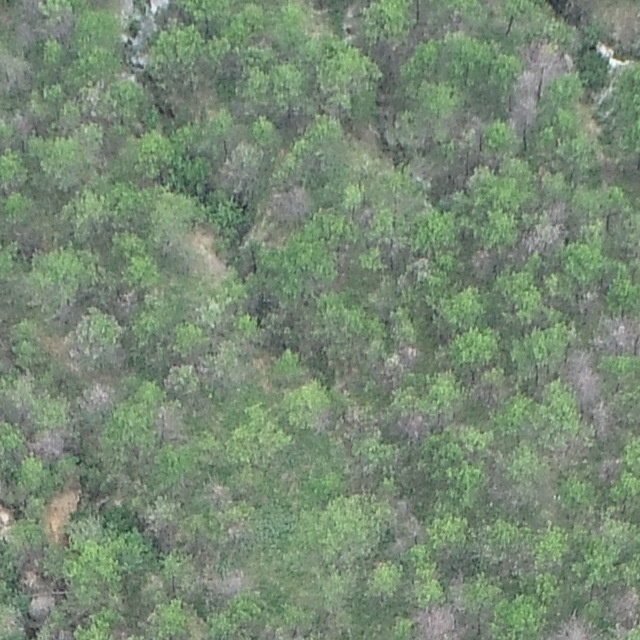unhealthy: (517, 203, 571, 259), (176, 222, 222, 277), (212, 146, 264, 194), (560, 346, 604, 402), (516, 39, 571, 83), (506, 78, 540, 141), (376, 339, 422, 383), (267, 183, 313, 224), (413, 601, 462, 639), (596, 312, 639, 355), (137, 507, 178, 547), (546, 434, 589, 470), (41, 329, 83, 365), (543, 614, 601, 640), (468, 374, 511, 409), (391, 496, 425, 539), (0, 49, 32, 94), (151, 401, 185, 443), (607, 583, 640, 625), (27, 427, 69, 460), (206, 568, 250, 599), (484, 473, 519, 510), (82, 376, 117, 411), (10, 220, 49, 251), (587, 401, 617, 439), (394, 410, 429, 442), (574, 280, 605, 315), (42, 12, 75, 41), (348, 121, 380, 150), (112, 286, 140, 317), (468, 246, 495, 278), (255, 623, 305, 640), (53, 301, 82, 327), (309, 406, 335, 433), (12, 21, 37, 49), (8, 111, 35, 136), (207, 481, 233, 506), (598, 456, 622, 482), (0, 334, 15, 373), (349, 204, 375, 226), (225, 519, 250, 540), (386, 539, 409, 560), (49, 627, 74, 640)
